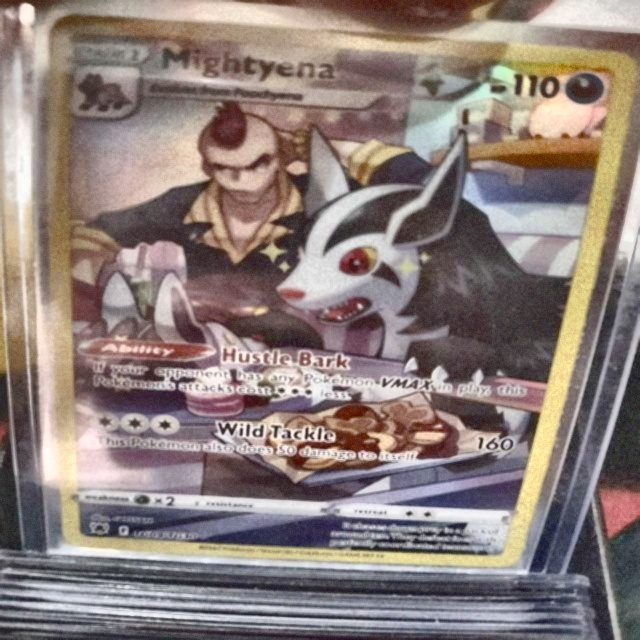card: (48, 12, 638, 569)
